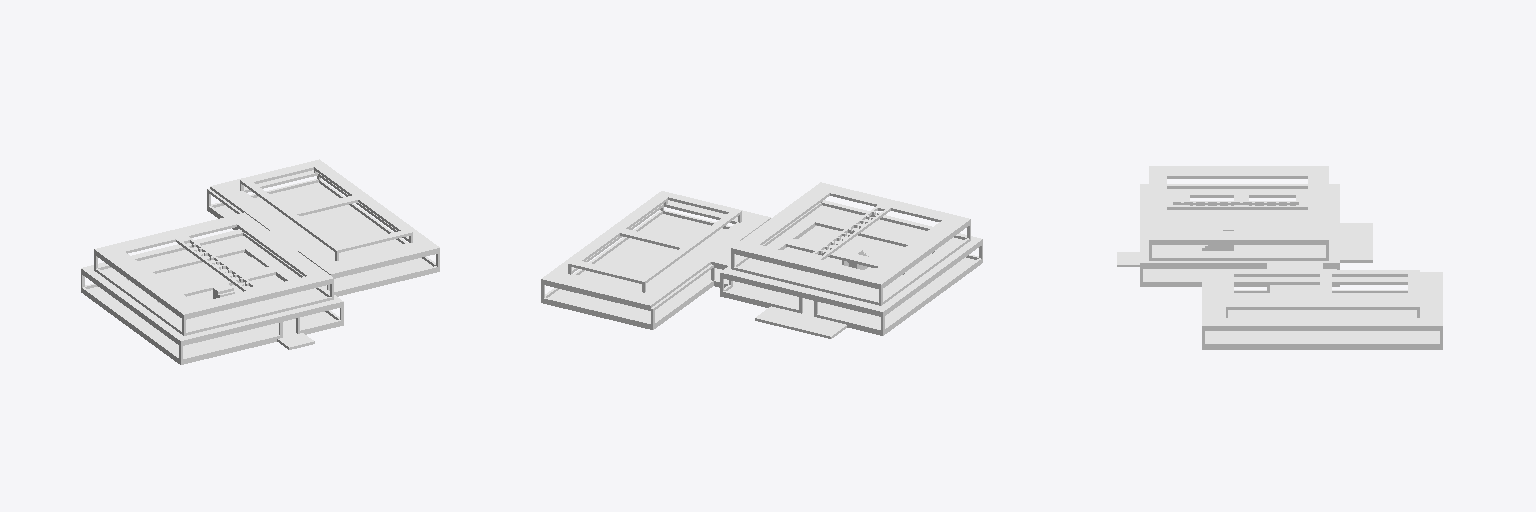
Rendered from new-office.obj.
3 renders of one model, left to right at view 1: azimuth 30°, elevation 25°; view 2: azimuth 150°, elevation 25°; view 3: azimuth 270°, elevation 25°, orthographic.
Parts seen in each view (by area): view 1: new-office; view 2: new-office; view 3: new-office.
Part boxes in pixels (left/top/right/bottom): new-office: left=81, top=159, right=439, bottom=364; new-office: left=541, top=182, right=982, bottom=338; new-office: left=1117, top=166, right=1442, bottom=349.
Bounding box in the file's own units: 114 × 17 × 111.